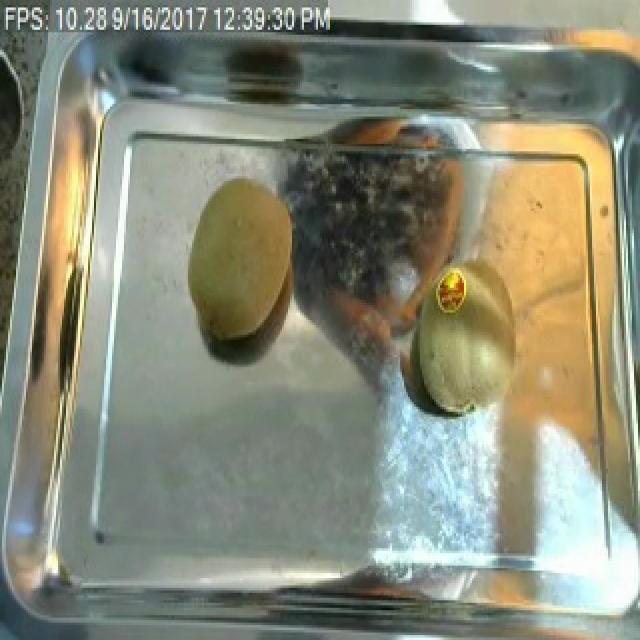Fruit: (400, 243, 540, 429), (180, 169, 302, 352)
